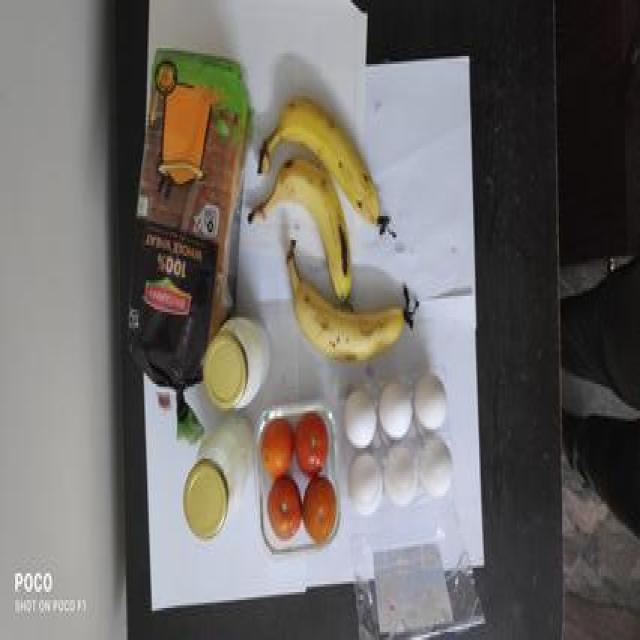Fresh_tomato: (262, 420, 341, 546)
